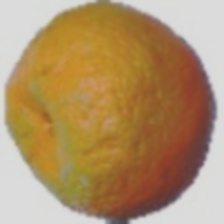tangerine: (29, 38, 179, 217)
